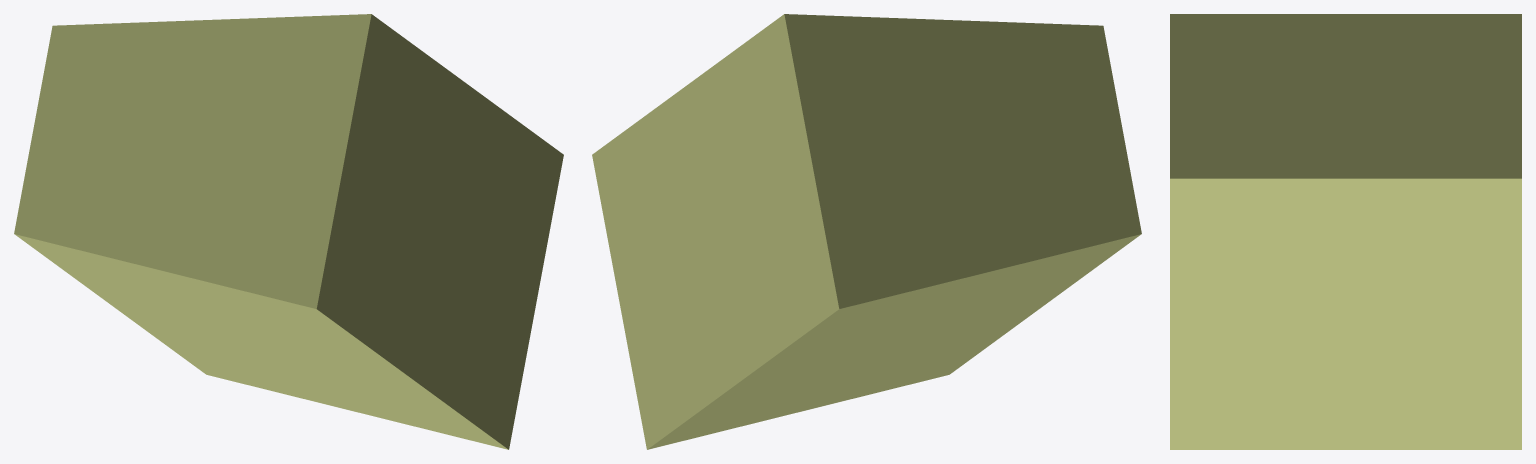
3 views of the same model, side by side, from view 1: azimuth 30°, elevation 25°; view 2: azimuth 150°, elevation 25°; view 3: azimuth 270°, elevation 25° (orthographic). The views are drawn at different scales.
Parts seen in each view (by area): view 1: 0_1_0_0_1_2_3_3_3_3; view 2: 0_1_0_0_1_2_3_3_3_3; view 3: 0_1_0_0_1_2_3_3_3_3.
Part boxes in pixels (<box>): 0_1_0_0_1_2_3_3_3_3: <box>14,14,563,449</box>; 0_1_0_0_1_2_3_3_3_3: <box>592,14,1141,449</box>; 0_1_0_0_1_2_3_3_3_3: <box>1170,14,1521,449</box>.
Size of the model in its own units: 9.66 by 8.98 by 9.
